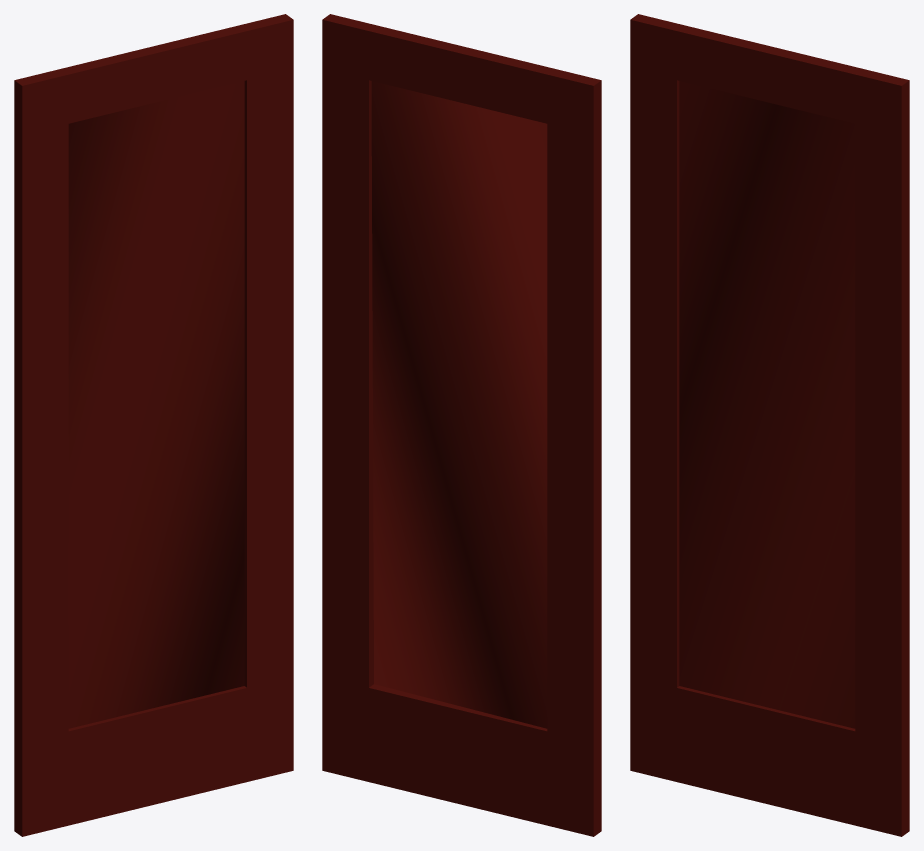
Rendered from SimpleDoor_Swing_01.fbx.
3 views of the same model, side by side, from view 1: azimuth 30°, elevation 25°; view 2: azimuth 150°, elevation 25°; view 3: azimuth 330°, elevation 25° (orthographic).
Visible parts, largest first — view 1: DoorSimple_01; view 2: DoorSimple_01; view 3: DoorSimple_01.
Part boxes in pixels (x1,y1,x2,y2): DoorSimple_01: (14,14,293,836); DoorSimple_01: (322,14,601,836); DoorSimple_01: (630,14,909,836).
Bounding box in the file's own units: 27.56 × 1.38 × 72.85.
